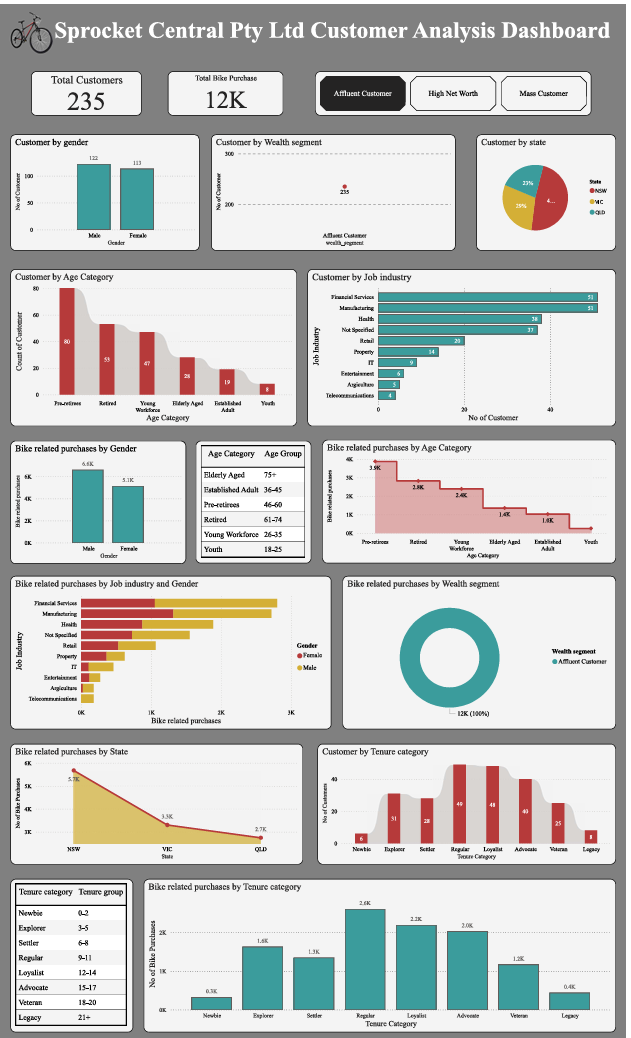

This screenshot's page, from the dashboard's own definition file:
{"tool":"powerbi","page":{"name":"Complete","canvas":[1300,2150],"ordinal":4},"visuals":[{"type":"pieChart","title":"Customer by state","fields":{"Y":["Count(Cleaning.Customer )"],"Category":["Cleaning.state"]},"box":[988.3,270,290,241.7],"z":0},{"type":"clusteredColumnChart","title":"Customer by gender","fields":{"Category":["Cleaning.gender"],"Y":["CountNonNull(Cleaning.Customer )","CountNonNull(Cleaning.Customer )"]},"box":[20,270,393.3,241.7],"z":1000},{"type":"ribbonChart","title":"Customer  by Age Category","fields":{"Category":["Cleaning.Age Category"],"Y":["Count(Cleaning.Customer )"]},"box":[20,550,595,326.7],"z":2000},{"type":"areaChart","title":"Customer by Wealth segment","fields":{"Category":["Cleaning.wealth_segment"],"Y":["Count(Cleaning.Customer )"]},"box":[436.7,270,508.3,241.7],"z":3000},{"type":"clusteredBarChart","title":"Customer  by Job industry","fields":{"Category":["Cleaning.job_industry_category"],"Y":["Count(Cleaning.Customer )"]},"box":[636.7,550,641.7,326.7],"z":4000},{"type":"donutChart","title":"Bike related purchases by Wealth segment","fields":{"Category":["Cleaning.wealth_segment"],"Y":["Sum(Cleaning.past_3_years_bike_related_purchases)"]},"box":[710,1188.3,568.3,318.3],"z":5000},{"type":"stackedAreaChart","title":"Bike related purchases by Age Category","fields":{"Category":["Cleaning.Age Category"],"Y":["Sum(Cleaning.past_3_years_bike_related_purchases)"]},"box":[668.3,905,610,256.7],"z":6000},{"type":"columnChart","title":"Bike related purchases by Gender","fields":{"Category":["Cleaning.gender"],"Y":["Sum(Cleaning.past_3_years_bike_related_purchases)"]},"box":[20,906.7,365,256.7],"z":7000},{"type":"barChart","title":"Bike related purchases by Job industry and Gender","fields":{"Category":["Cleaning.job_industry_category"],"Y":["Sum(Cleaning.past_3_years_bike_related_purchases)"],"Series":["Cleaning.gender"]},"box":[20,1188.3,666.7,318.3],"z":8000},{"type":"areaChart","title":"Bike related purchases by State","fields":{"Category":["Cleaning.state"],"Y":["Sum(Cleaning.past_3_years_bike_related_purchases)"]},"box":[20,1536.7,608.3,251.7],"z":9000},{"type":"clusteredColumnChart","title":"Bike related purchases by Tenure category","fields":{"Category":["Cleaning.Tenure category"],"Y":["Sum(Cleaning.past_3_years_bike_related_purchases)"]},"box":[296.7,1818.3,981.7,318.3],"z":10000},{"type":"ribbonChart","title":"Customer  by Tenure category","fields":{"Y":["Count(Cleaning.Customer )"],"Category":["Cleaning.Tenure category"]},"box":[658.3,1536.7,620,251.7],"z":11000},{"type":"tableEx","fields":{"Values":["Cleaning.Age Category","Cleaning.Age Group"]},"box":[405,906.7,240,255],"z":12000},{"type":"tableEx","fields":{"Values":["Cleaning.Tenure category","Cleaning.Tenure group"]},"box":[20,1818.3,255,318.3],"z":13000},{"type":"advancedSlicerVisual","fields":{"Values":["Cleaning.wealth_segment"]},"box":[653.3,139.3,574,92],"z":14000},{"type":"card","title":"Total Customers","fields":{"Values":["Count(Cleaning.Customer )"]},"box":[63.3,139.3,230,92],"z":15000},{"type":"card","title":"Total Bike Purchase","fields":{"Values":["Sum(Cleaning.past_3_years_bike_related_purchases)"]},"box":[347.3,139.3,240,92],"z":16000},{"type":"textbox","box":[78.3,20,1221.7,81.7],"z":17000},{"type":"image","box":[13.3,10,100,103.3],"z":18000}]}

Visuals, with their boxes in screenshot pixels (x1, y1, x2, y2), scaled from the page's 1300x2150 canvas onto the 631x1038 screenshot:
"Customer by state" pieChart: 480,130,620,247
"Customer by gender" clusteredColumnChart: 10,130,201,247
"Customer  by Age Category" ribbonChart: 10,266,299,423
"Customer by Wealth segment" areaChart: 212,130,459,247
"Customer  by Job industry" clusteredBarChart: 309,266,621,423
"Bike related purchases by Wealth segment" donutChart: 345,574,620,727
"Bike related purchases by Age Category" stackedAreaChart: 324,437,620,561
"Bike related purchases by Gender" columnChart: 10,438,187,562
"Bike related purchases by Job industry and Gender" barChart: 10,574,333,727
"Bike related purchases by State" areaChart: 10,742,305,863
"Bike related purchases by Tenure category" clusteredColumnChart: 144,878,621,1032
"Customer  by Tenure category" ribbonChart: 320,742,620,863
tableEx - Cleaning.Age Category x Cleaning.Age Group: 197,438,313,561
tableEx - Cleaning.Tenure category x Cleaning.Tenure group: 10,878,133,1032
advancedSlicerVisual - Cleaning.wealth_segment: 317,67,596,112
"Total Customers" card: 31,67,142,112
"Total Bike Purchase" card: 169,67,285,112
textbox: 38,10,630,49
image: 6,5,55,55
